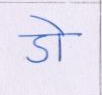o_matra: (53, 19, 65, 61)
